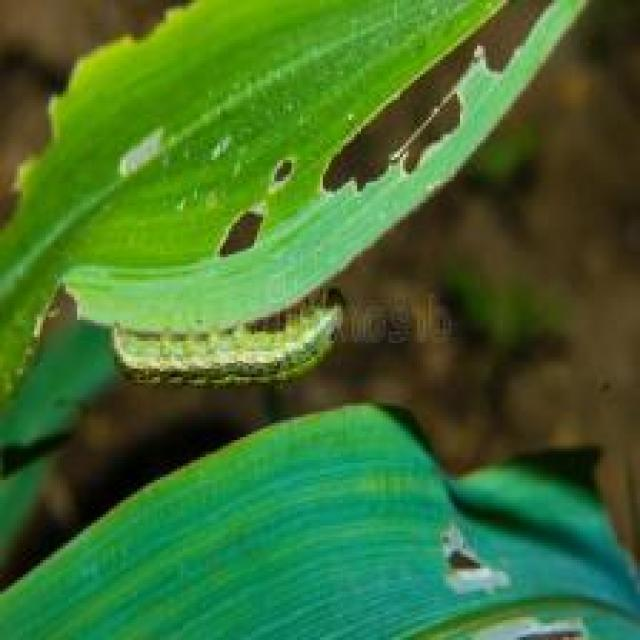pest: (105, 311, 369, 373)
